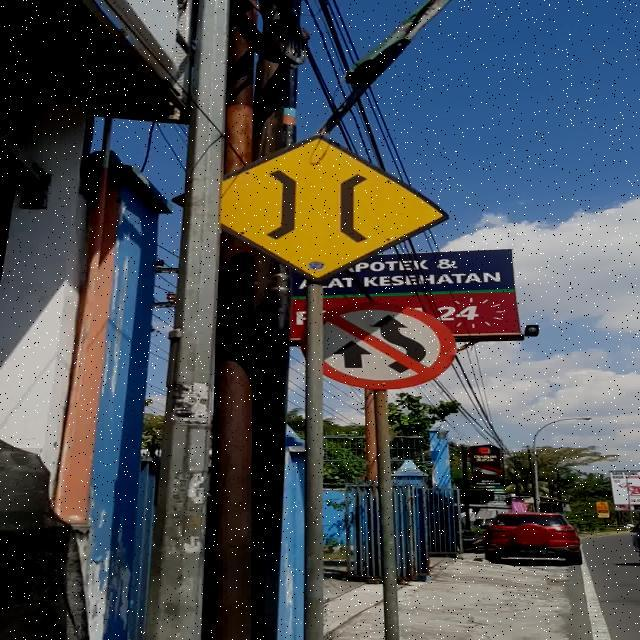Dilarang Mendahului: (324, 302, 456, 389)
